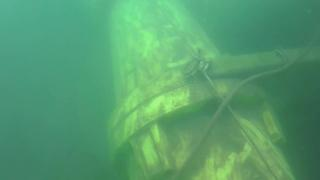pipe: (105, 1, 293, 180)
